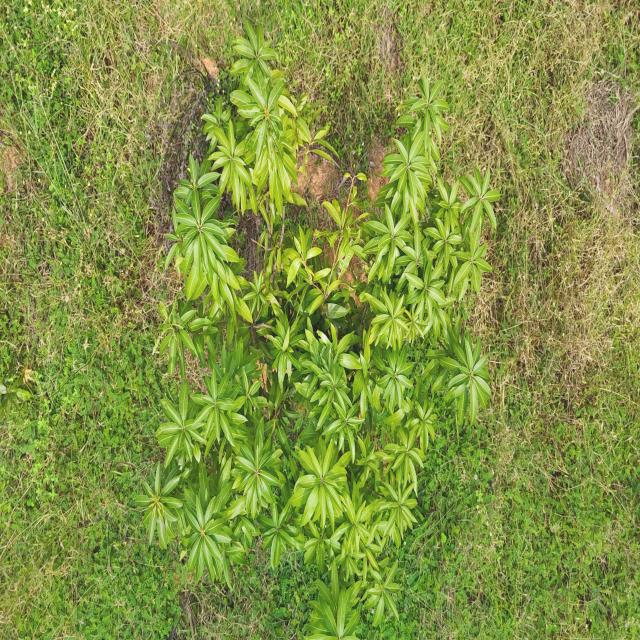mangoTree: (133, 19, 503, 640)
